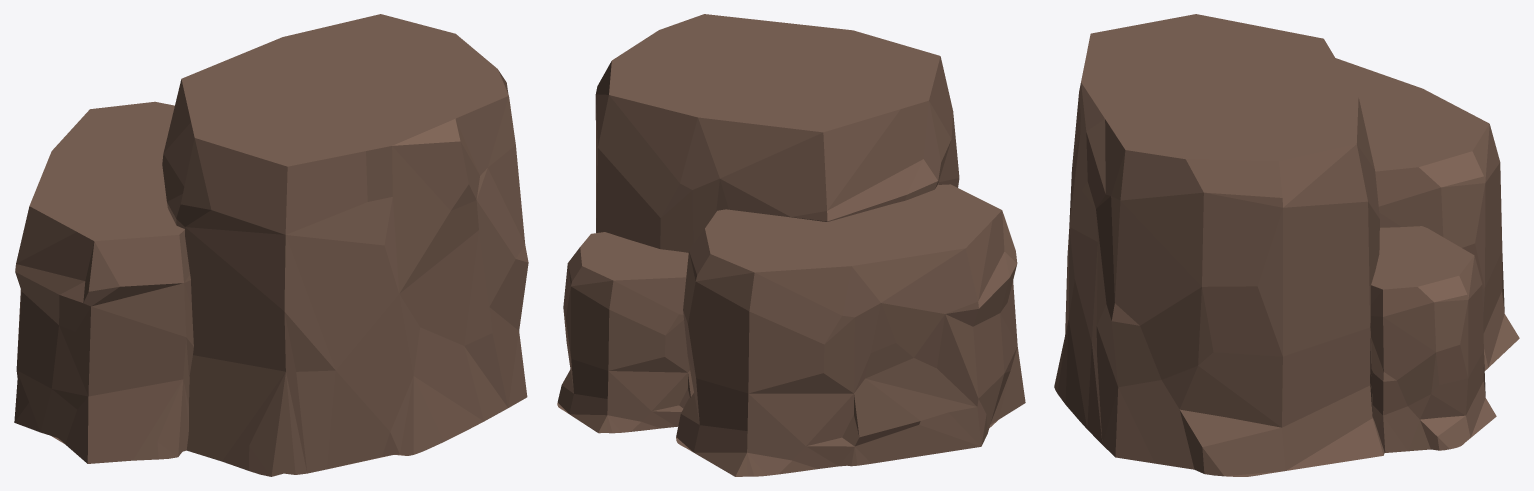
The model's file is Pride_rock_Unwrapped.fbx.
3 renders of one model, left to right at view 1: azimuth 30°, elevation 25°; view 2: azimuth 150°, elevation 25°; view 3: azimuth 270°, elevation 25°, orthographic. The views are drawn at different scales.
Visible parts, largest first — view 1: polySurface2, polySurface1; view 2: polySurface1, polySurface2, polySurface3; view 3: polySurface2, polySurface3, polySurface1.
Boxes of the visible parts, left/top/right/bottom form: polySurface2: left=162, top=14, right=528, bottom=476; polySurface1: left=14, top=101, right=193, bottom=463; polySurface1: left=676, top=184, right=1025, bottom=476; polySurface2: left=595, top=14, right=959, bottom=252; polySurface3: left=557, top=232, right=693, bottom=433; polySurface2: left=1054, top=14, right=1384, bottom=476; polySurface3: left=1370, top=226, right=1496, bottom=452; polySurface1: left=1335, top=58, right=1519, bottom=370.
Size of the model in its own units: 13.01 by 8.31 by 11.65.
